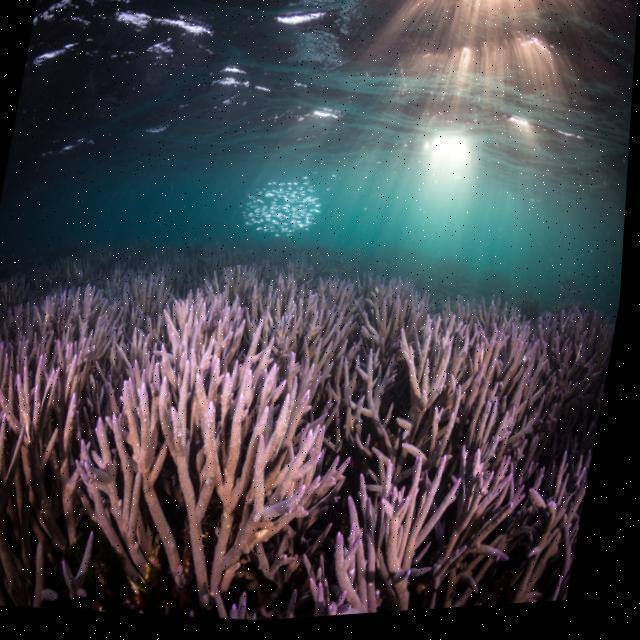Healthy Coral: (3, 277, 578, 620)
